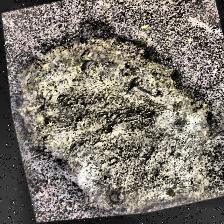pothole: (2, 16, 224, 224)
